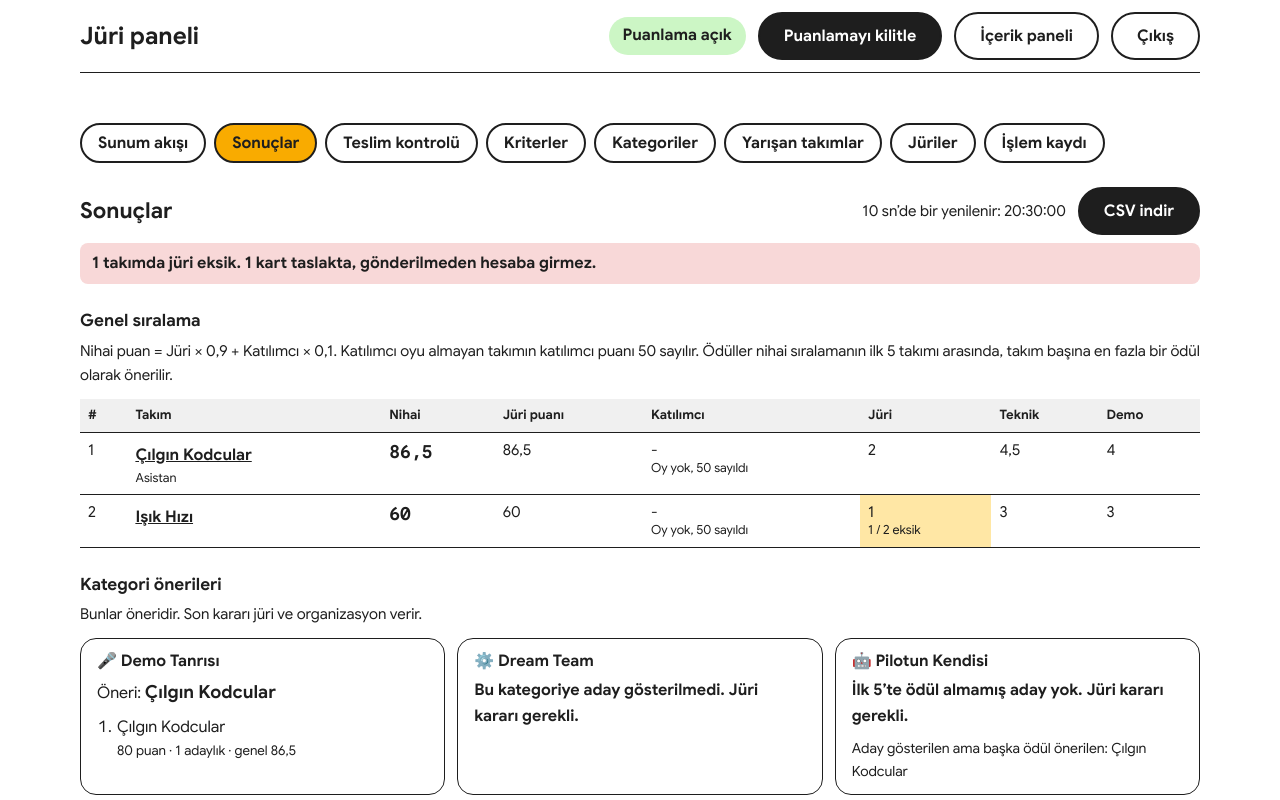
ayarlar › geçersiz linki kaydettirmez
Check: the button "Puanlamayı kilitle" is shown, box [758,12,942,60]
Click the button "Yarışan takımlar" at [803, 143], box [724,123,882,163]
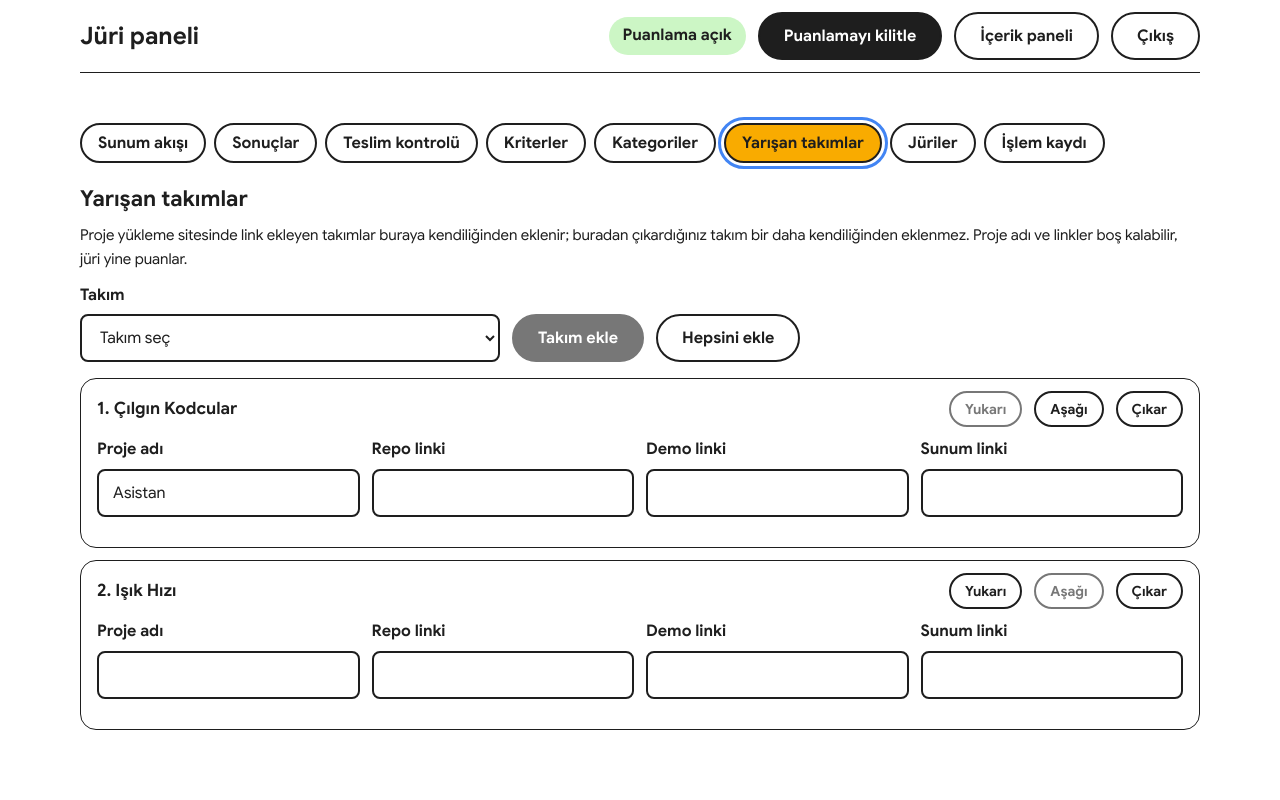
Type "github.com/x" into the field labelled "Repo linki" below "1. Çılgın Kodcular" at [503, 493], box [372,469,634,517]
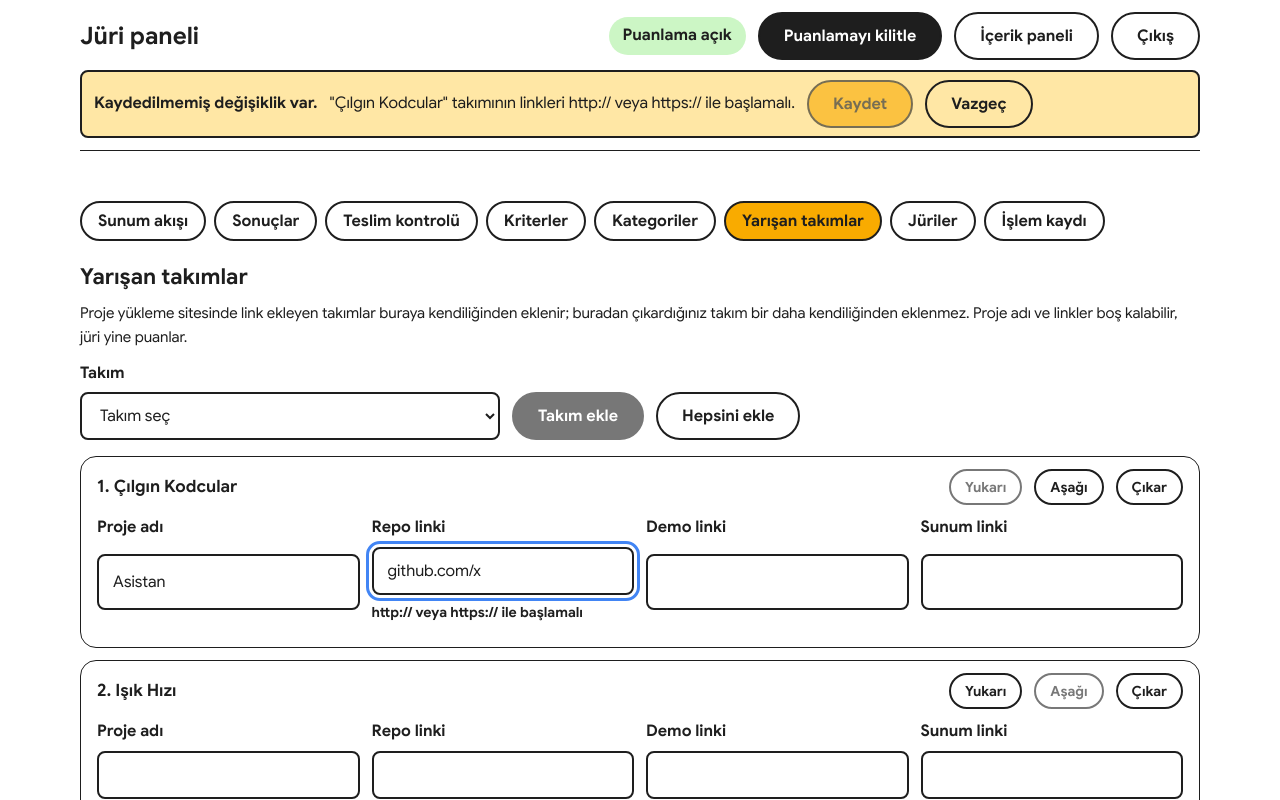
Check: the button "Kaydet" is disabled, box [807,80,913,128]
